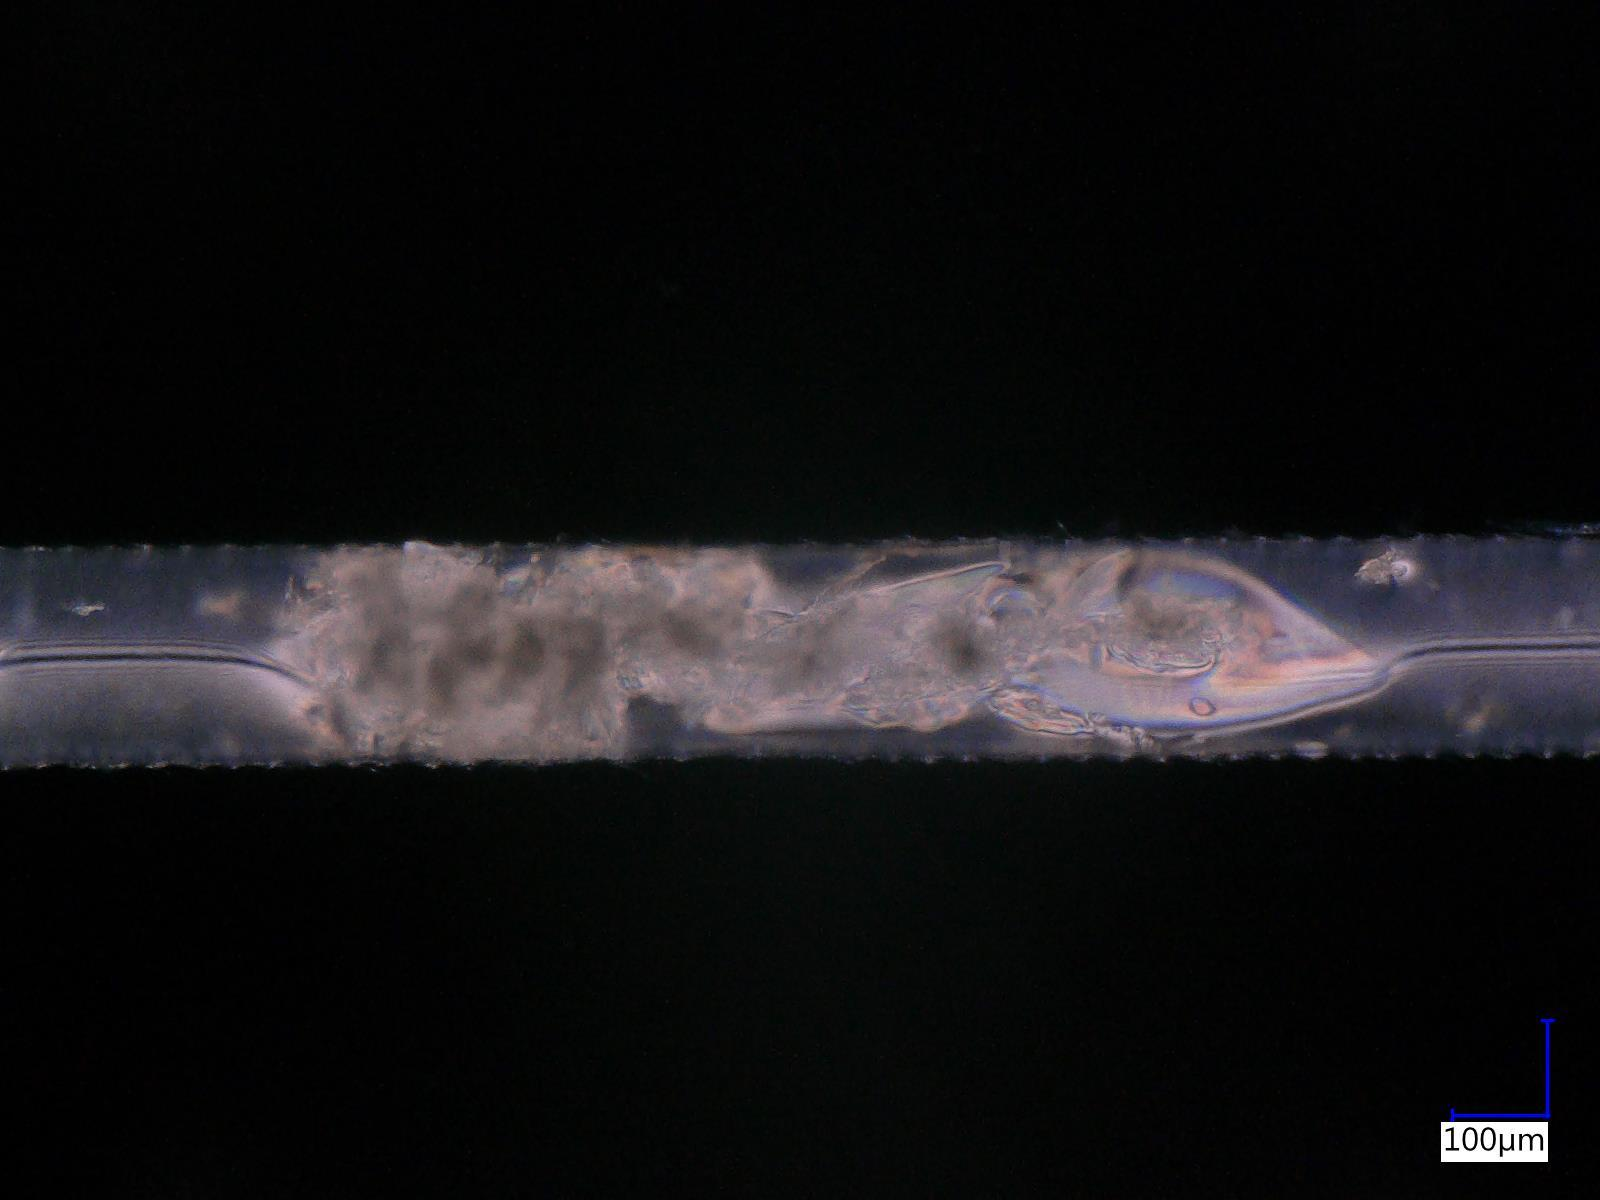sediment: (299, 552, 622, 759), (634, 577, 991, 727), (1085, 600, 1230, 667)
